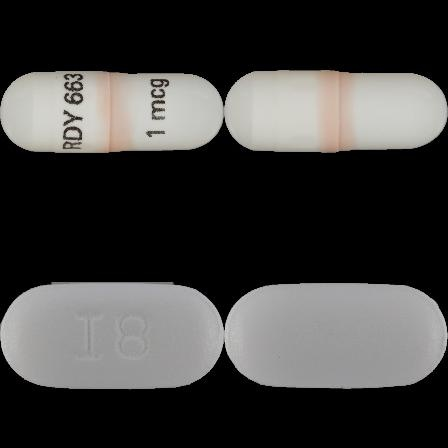55111-663: (0, 0, 224, 224)
